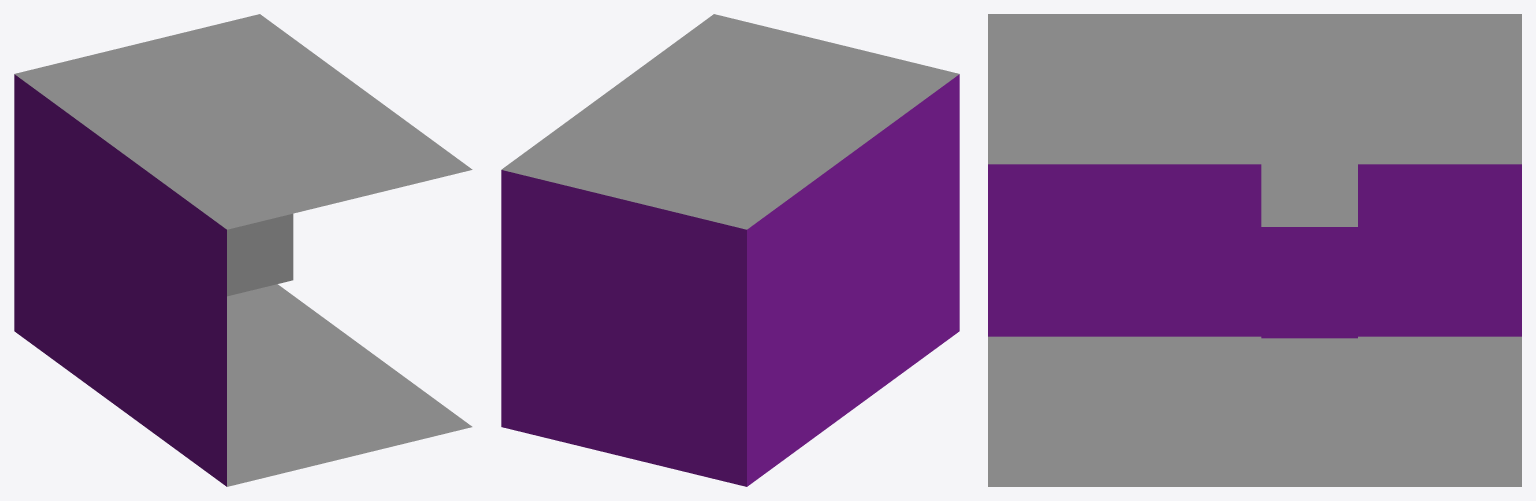
The model's file is caja.obj.
The picture shows the model from 3 angles, left to right: view 1: azimuth 30°, elevation 25°; view 2: azimuth 150°, elevation 25°; view 3: azimuth 270°, elevation 25°; orthographic projection. The views are drawn at different scales.
Visible parts, largest first — view 1: Box01, Box02; view 2: Box01; view 3: Box01, Box02.
Part boxes in pixels (x1,y1,x2,y2): Box01: (14, 14, 472, 486); Box02: (227, 213, 293, 296); Box01: (501, 14, 959, 486); Box01: (988, 14, 1521, 486); Box02: (1261, 164, 1357, 338).
Size of the model in its own units: 40 by 40 by 60.
